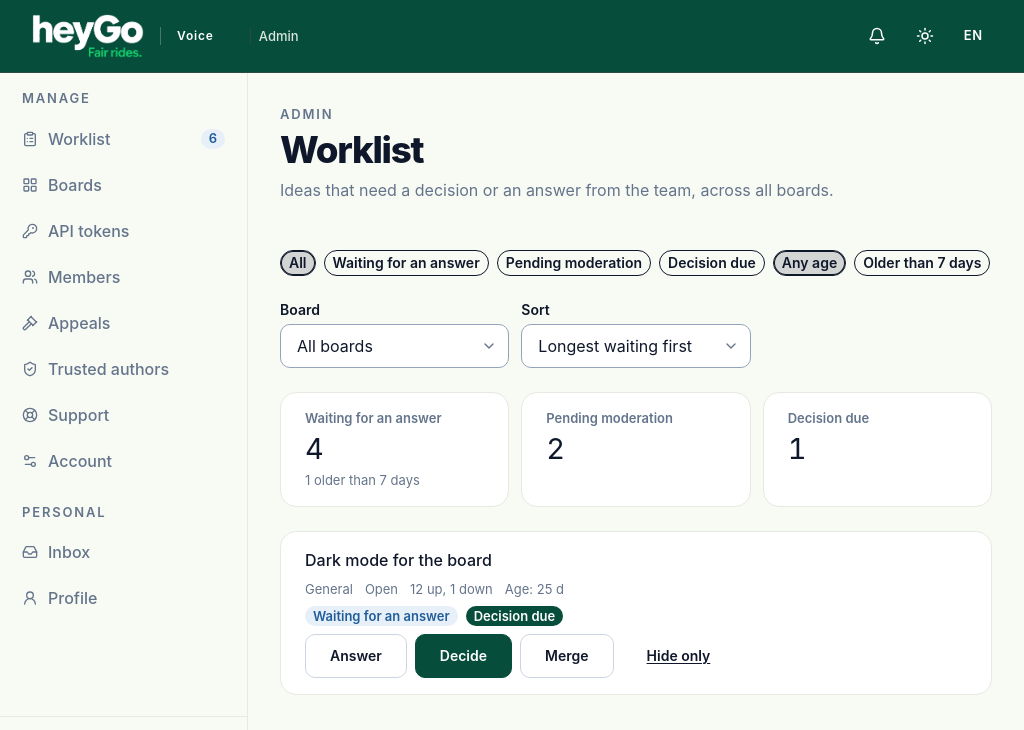
Scenario: WorklistPage — Entscheiden (decision with a mandatory explanation) › says so when the server allows no next status
What coordinates should you click on to do the following:
click the button with test id "worklist-row-11-decide"
I would click on:
 (463, 656)
Its box is left=415, top=634, right=512, bottom=678.
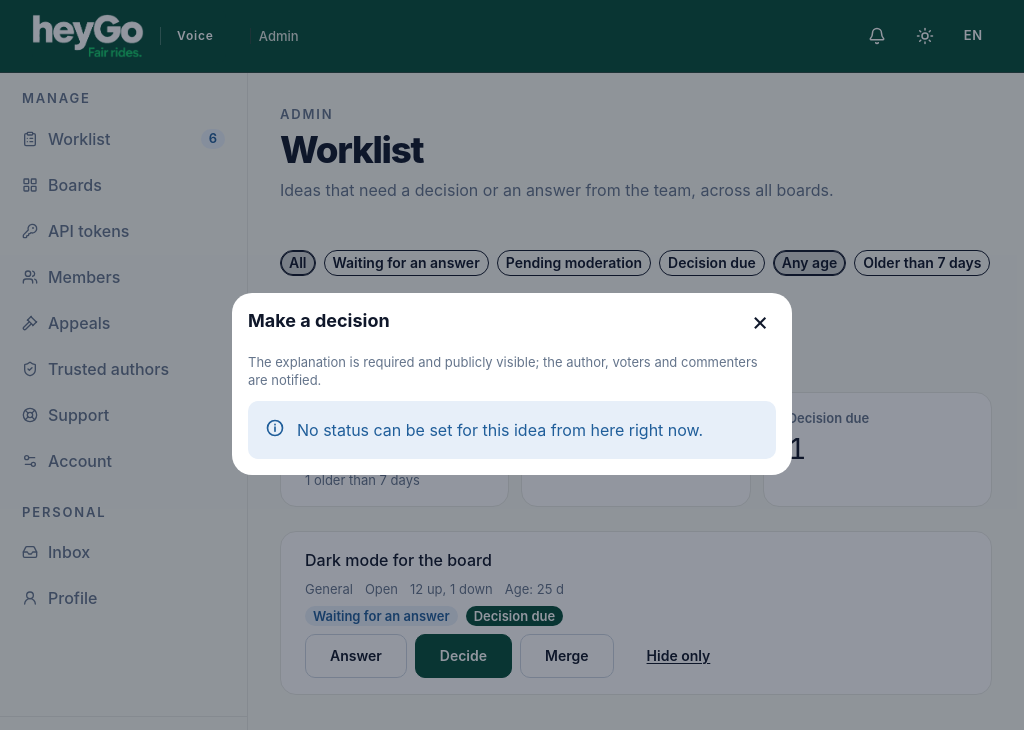
Check: the message "No status can be set for this idea from here right now." is shown, box left=248, top=401, right=776, bottom=459
